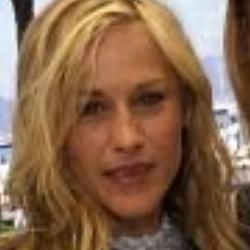face: (3, 2, 233, 233)
